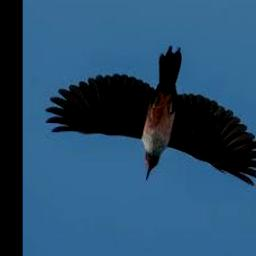Woodpecker: (46, 46, 256, 186)
